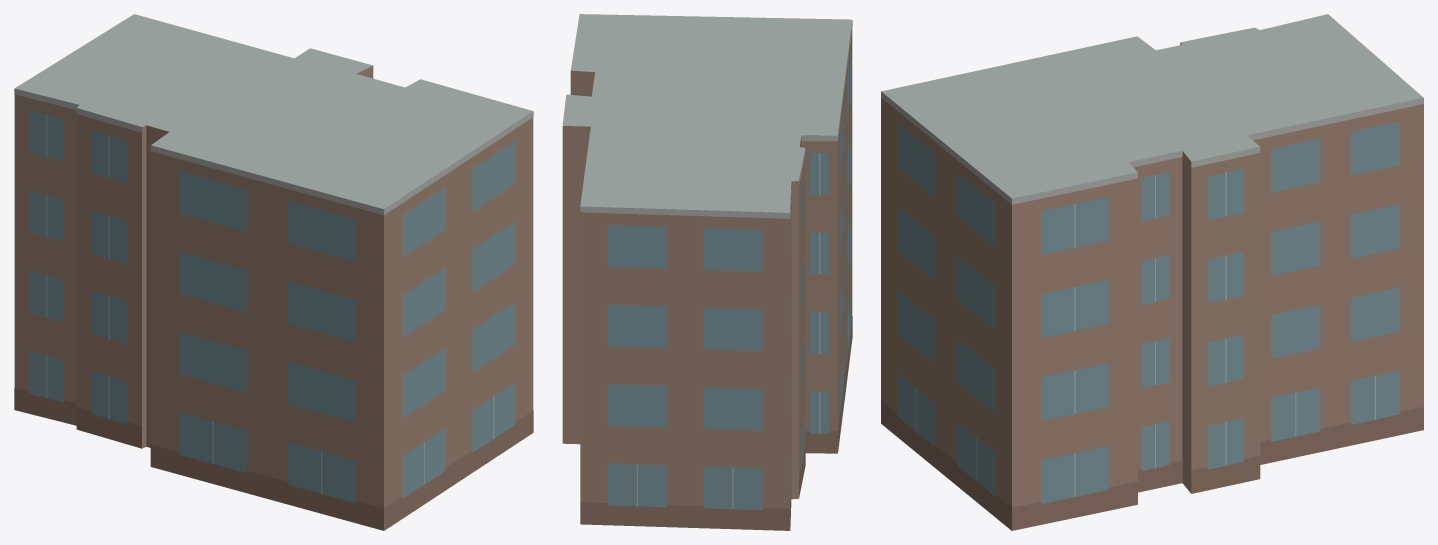
Rendered from survey-upis-32736066.glb.
The picture shows the model from 3 angles, left to right: view 1: azimuth 30°, elevation 25°; view 2: azimuth 150°, elevation 25°; view 3: azimuth 270°, elevation 25°; orthographic projection. The views are drawn at different scales.
Visible parts, largest first — view 1: survey-upis-32736066.tmp; view 2: survey-upis-32736066.tmp; view 3: survey-upis-32736066.tmp.
Part boxes in pixels (<box>): survey-upis-32736066.tmp: <box>14,14,533,530</box>; survey-upis-32736066.tmp: <box>562,14,852,530</box>; survey-upis-32736066.tmp: <box>881,14,1423,530</box>.
Size of the model in its own units: 15.65 by 13.13 by 19.44.
